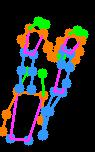normal: (4, 14, 84, 149)
